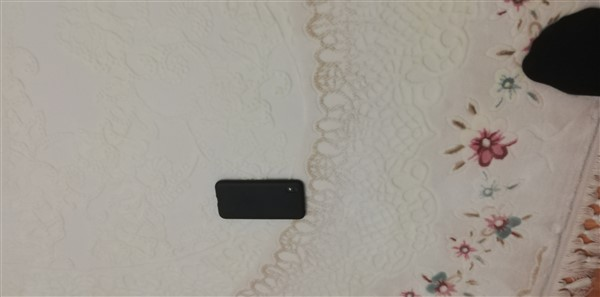telefon: (213, 177, 307, 224)
